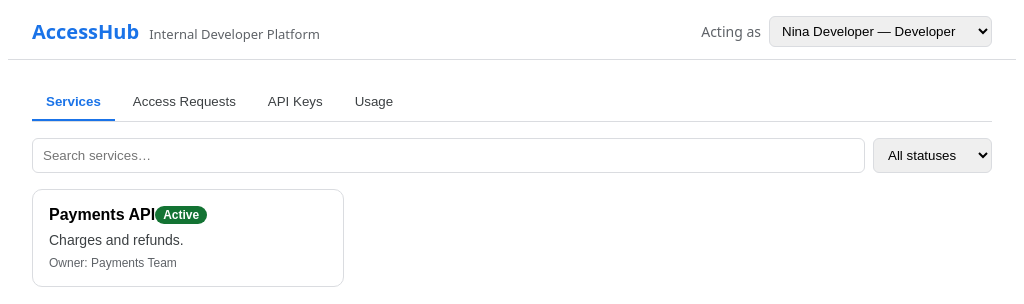
Test: Dashboard › hides the approve button for developers
The width and height of the screenshot is (1024, 304).
Check: the text "Payments API" is shown, box [49,206,155,224]
Click the button "Access Requests" at (184, 102), box [119,84,250,121]
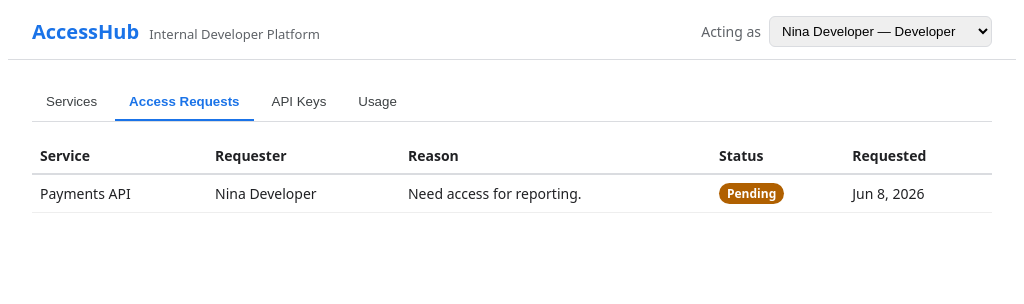
Check: the text "Need access for reporting." is shown, box [400,174,711,212]
